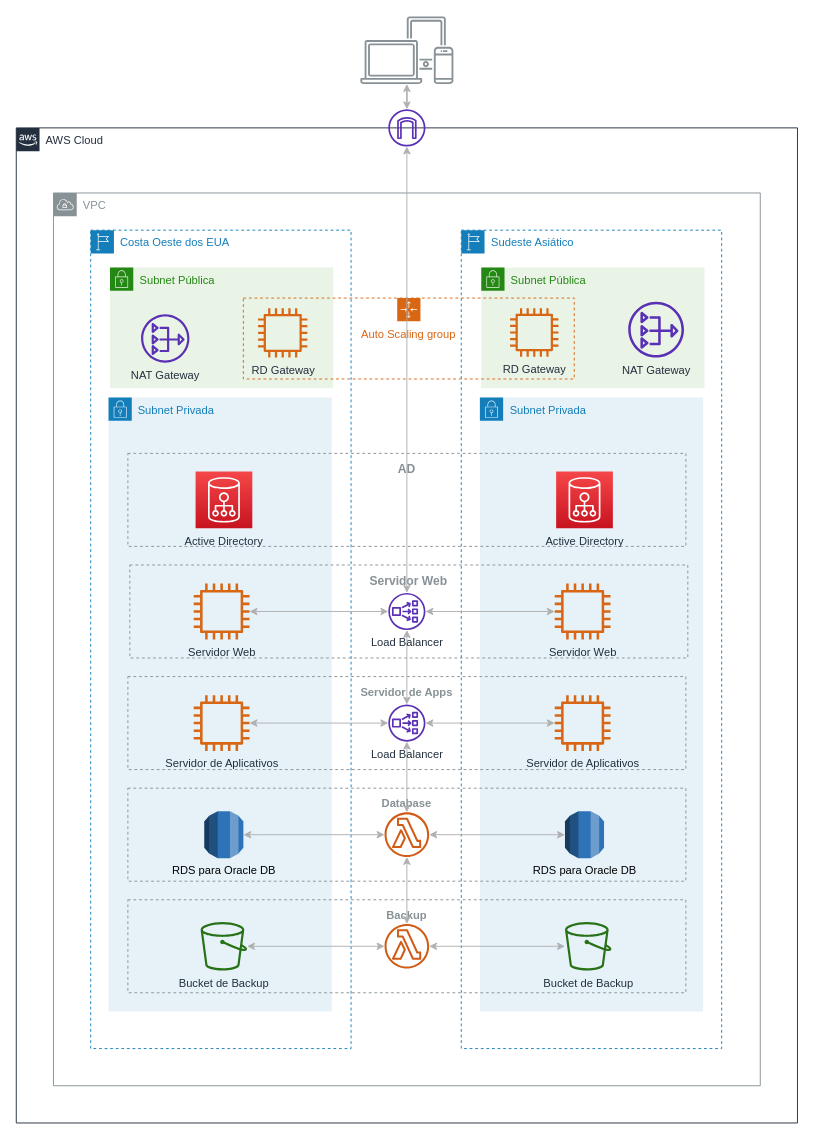
The diagram is 814 pixels wide and 1139 high, and some of its shapes have lost their labels. The shapes that lost their labels are listed below. From the top down, each one's centre as x and y in pixels, then its label:
[406,834]: Processador
[406,945]: Consumidor
